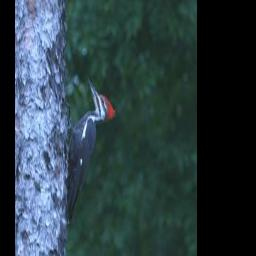Woodpecker: (63, 73, 114, 229)
